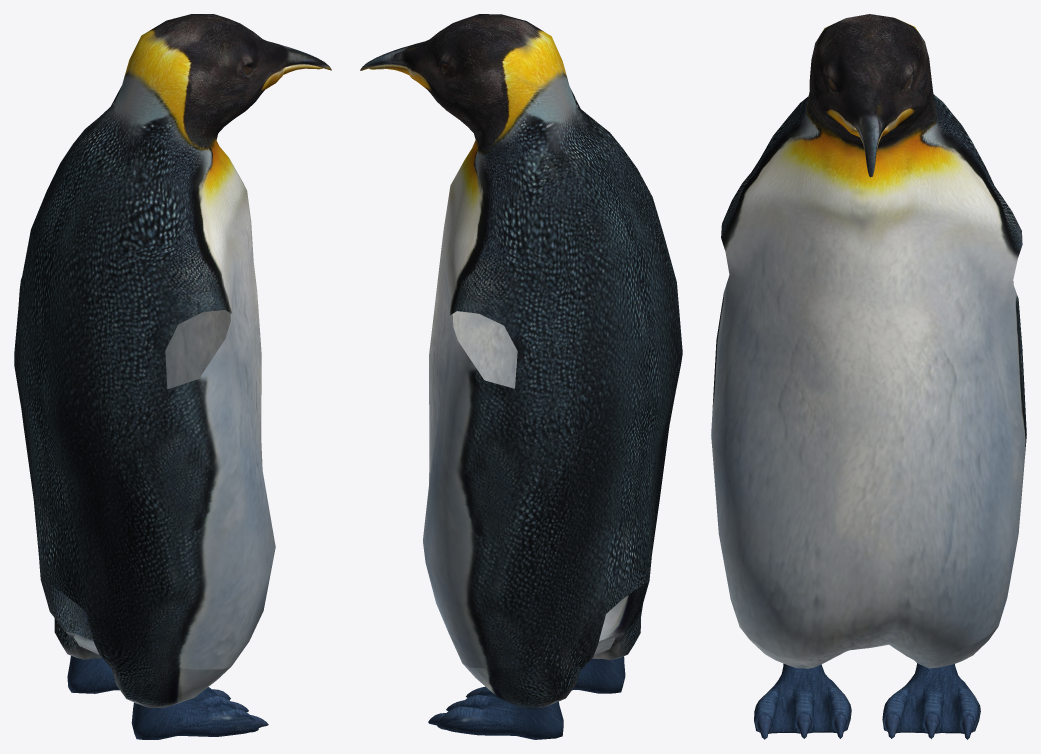
Rendered from penguinCuerpo.obj.
3 renders of one model, left to right at view 1: azimuth 30°, elevation 25°; view 2: azimuth 150°, elevation 25°; view 3: azimuth 270°, elevation 25°, orthographic. The views are drawn at different scales.
Parts seen in each view (by area): view 1: penguin.013_penguin.014; view 2: penguin.013_penguin.014; view 3: penguin.013_penguin.014.
Part boxes in pixels (x1,y1,x2,y2): penguin.013_penguin.014: (14,14,331,739); penguin.013_penguin.014: (360,14,682,739); penguin.013_penguin.014: (711,14,1026,739).
Size of the model in its own units: 1.51 by 3.33 by 1.34.
Materials: 1 (1 with a texture image).
